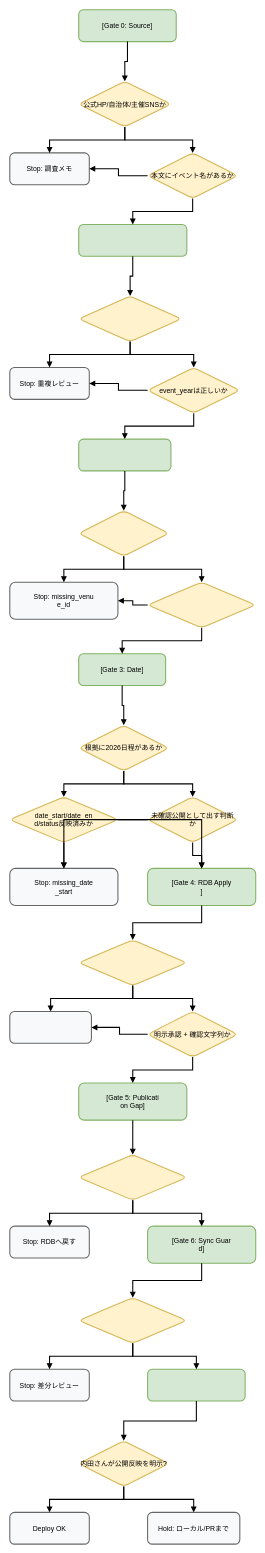
The diagram is 265 pixels wide and 1553 high, and some of its shapes have lost their labels. Each missing label, with the centre of its shape:
"[Gate 1: Identity]" goes at point 132,240.
"[Gate 2: Venue]" goes at point 124,454.
"[Gate 7: Deploy]" goes at point 196,1384.
"dry-run/report作成済み か" goes at point 132,962.
"public sync guard pass?" goes at point 132,1320.
"publication_gap ev ent blockerなし?" goes at point 132,1177.
"series_key重複確認済みか" goes at point 130,318.
"Stop: apply禁止" goes at point 50,1027.
"venue active + 23区 areaか" goes at point 201,604.
"venue_idがあるか" goes at point 123,533.
